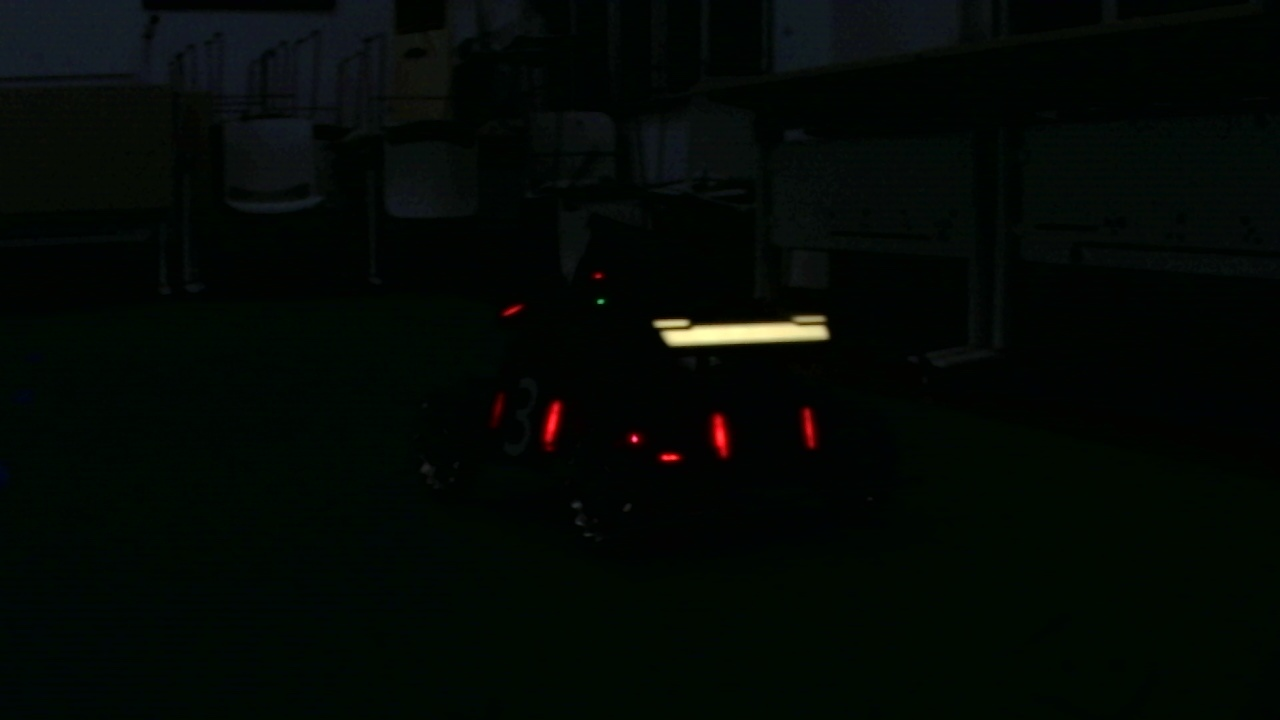lamp: (538, 396, 561, 447), (711, 402, 731, 460), (803, 403, 818, 453)
notpair1: (540, 396, 733, 460)
pair1: (712, 405, 820, 457)
